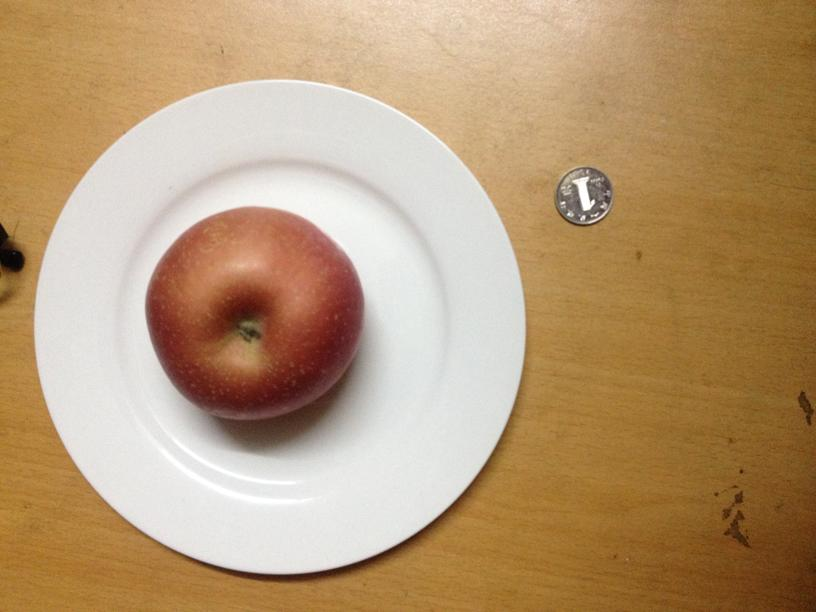apple: (144, 204, 361, 420)
coin: (556, 167, 613, 226)
